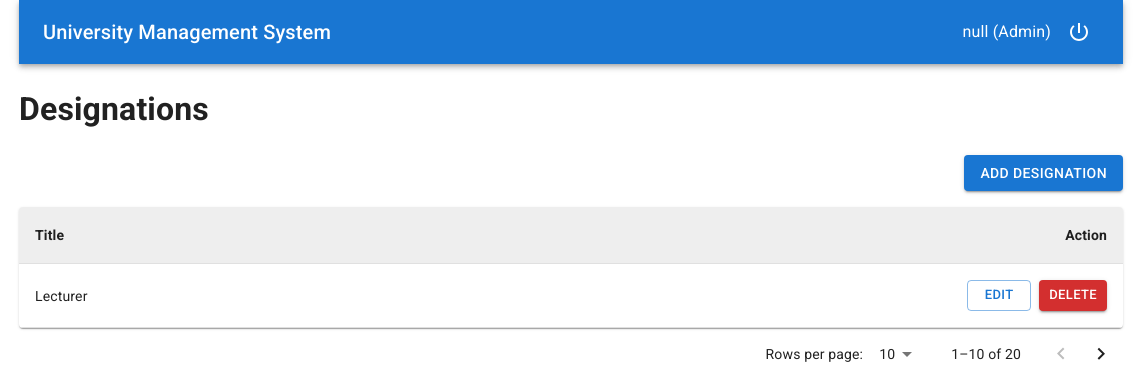
Test: DesignationPage › requests the paged endpoint and loads the next page on navigation
Expected: the text "Lecturer" is shown, [19, 264, 383, 328]
Click the button named "next page": (1101, 354) [1081, 334, 1121, 374]
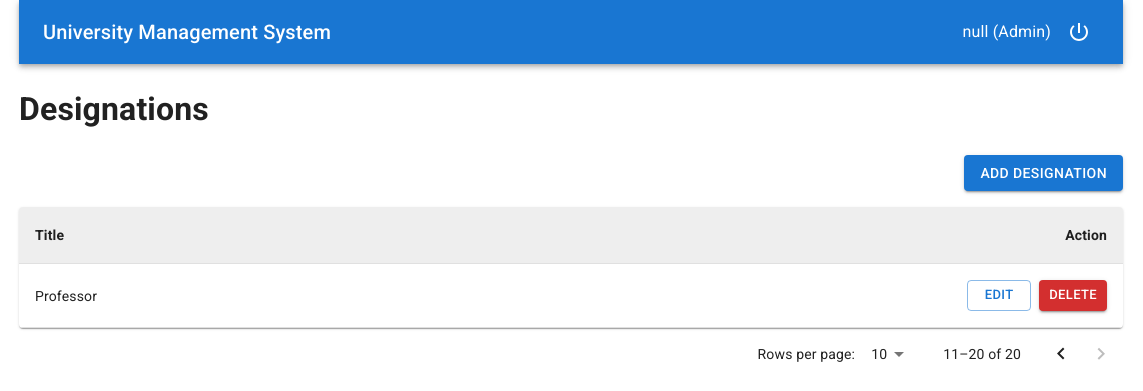
Result: the text "Professor" is shown at [19, 264, 410, 328]
